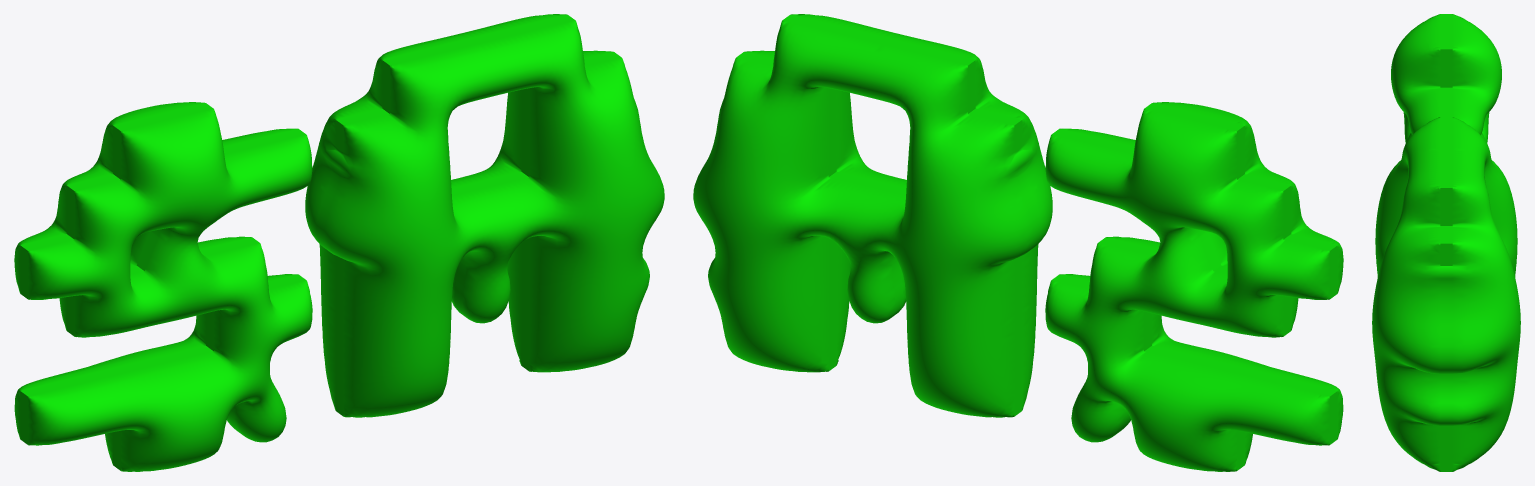
File: $A-SNOT.glb
3 renders of one model, left to right at view 1: azimuth 30°, elevation 25°; view 2: azimuth 150°, elevation 25°; view 3: azimuth 270°, elevation 25°, orthographic. The views are drawn at different scales.
Parts seen in each view (by area): view 1: Mesh_0.001, Mesh_1.001; view 2: Mesh_0.001, Mesh_1.001; view 3: Mesh_0.001, Mesh_1.001.
Boxes of the visible parts, x1,y1,x2,y2 form: Mesh_0.001: [305, 14, 664, 417]; Mesh_1.001: [14, 102, 312, 471]; Mesh_0.001: [693, 14, 1052, 417]; Mesh_1.001: [1045, 102, 1343, 471]; Mesh_0.001: [1372, 117, 1520, 471]; Mesh_1.001: [1391, 14, 1501, 156].
Bounding box in the file's own units: 0.0405 × 0.0212 × 0.0106.
